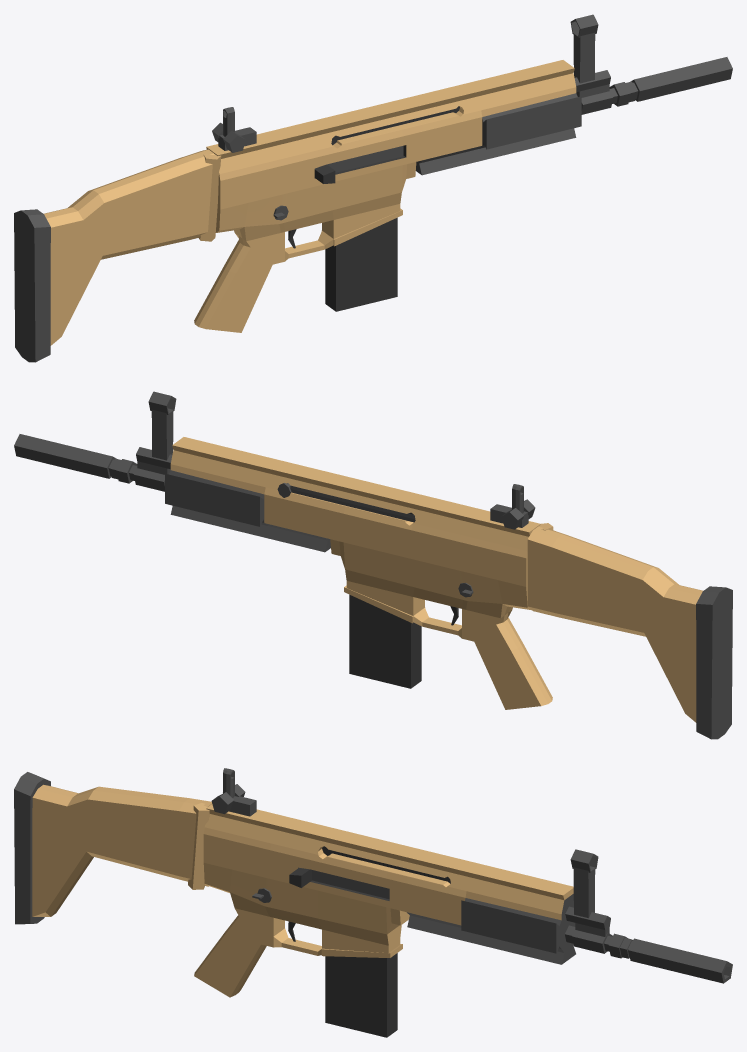
Rendered from low_poly_scarh.glb.
3 views of the same model, one above another, from view 1: azimuth 30°, elevation 25°; view 2: azimuth 150°, elevation 25°; view 3: azimuth 330°, elevation 25° (orthographic).
Visible parts, largest first — view 1: Base, Stock, Mag, IronSight, Bolt; view 2: Base, Stock, Mag, IronSight, CharginHandle; view 3: Base, Stock, Mag, IronSight, Bolt.
Part boxes in pixels (x1,y1,x2,y2): Base: (194,14,732,332); Stock: (14,149,221,362); Mag: (325,217,397,311); IronSight: (212,107,256,152); Bolt: (327,146,402,172); Base: (14,391,552,709); Stock: (527,523,732,739); Mag: (349,594,421,688); IronSight: (490,484,535,529); CharginHandle: (277,483,415,522); Base: (194,804,732,997); Stock: (14,772,212,924); Mag: (325,953,397,1037); IronSight: (211,768,256,816); Bolt: (312,870,389,899).
Size of the model in its own units: 9.02 by 2.81 by 0.6667.
